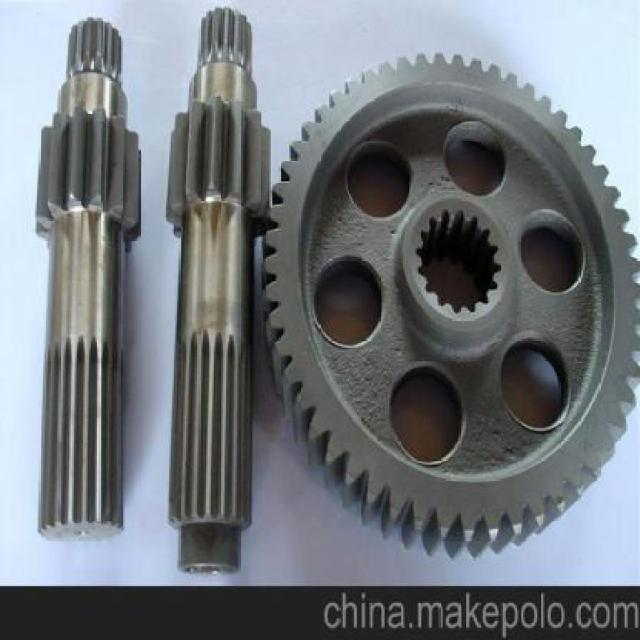Gear: (260, 49, 640, 558), (30, 107, 145, 250), (162, 95, 274, 238), (193, 5, 257, 76), (61, 15, 125, 80)
